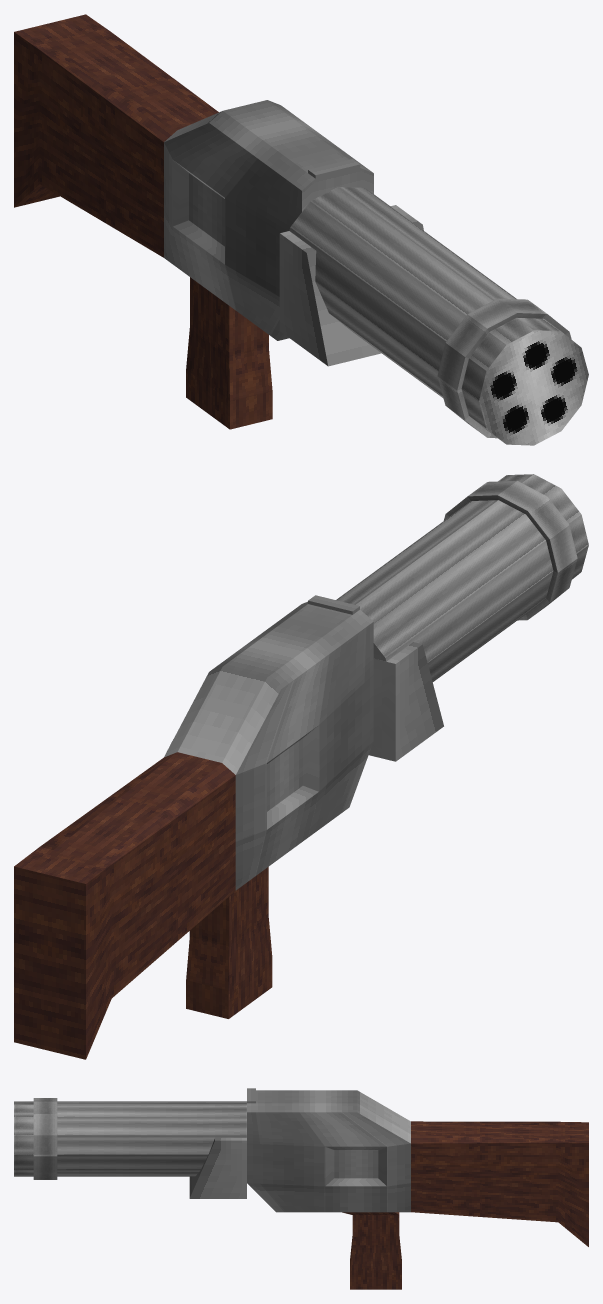
File: machinegun.glb
3 views of the same model, one above another, from view 1: azimuth 30°, elevation 25°; view 2: azimuth 150°, elevation 25°; view 3: azimuth 270°, elevation 25° (orthographic). The views are drawn at different scales.
Visible parts, largest first — view 1: gun, gatling; view 2: gun, gatling; view 3: gun, gatling.
Part boxes in pixels (x1,y1,x2,y2): gun: [14, 14, 423, 429]; gatling: [289, 187, 588, 445]; gun: [14, 595, 443, 1059]; gatling: [336, 474, 588, 681]; gun: [189, 1088, 588, 1289]; gatling: [14, 1098, 246, 1179].
Size of the model in its own units: 0.4067 by 1.03 by 2.83.
3 materials, 3 textured.
